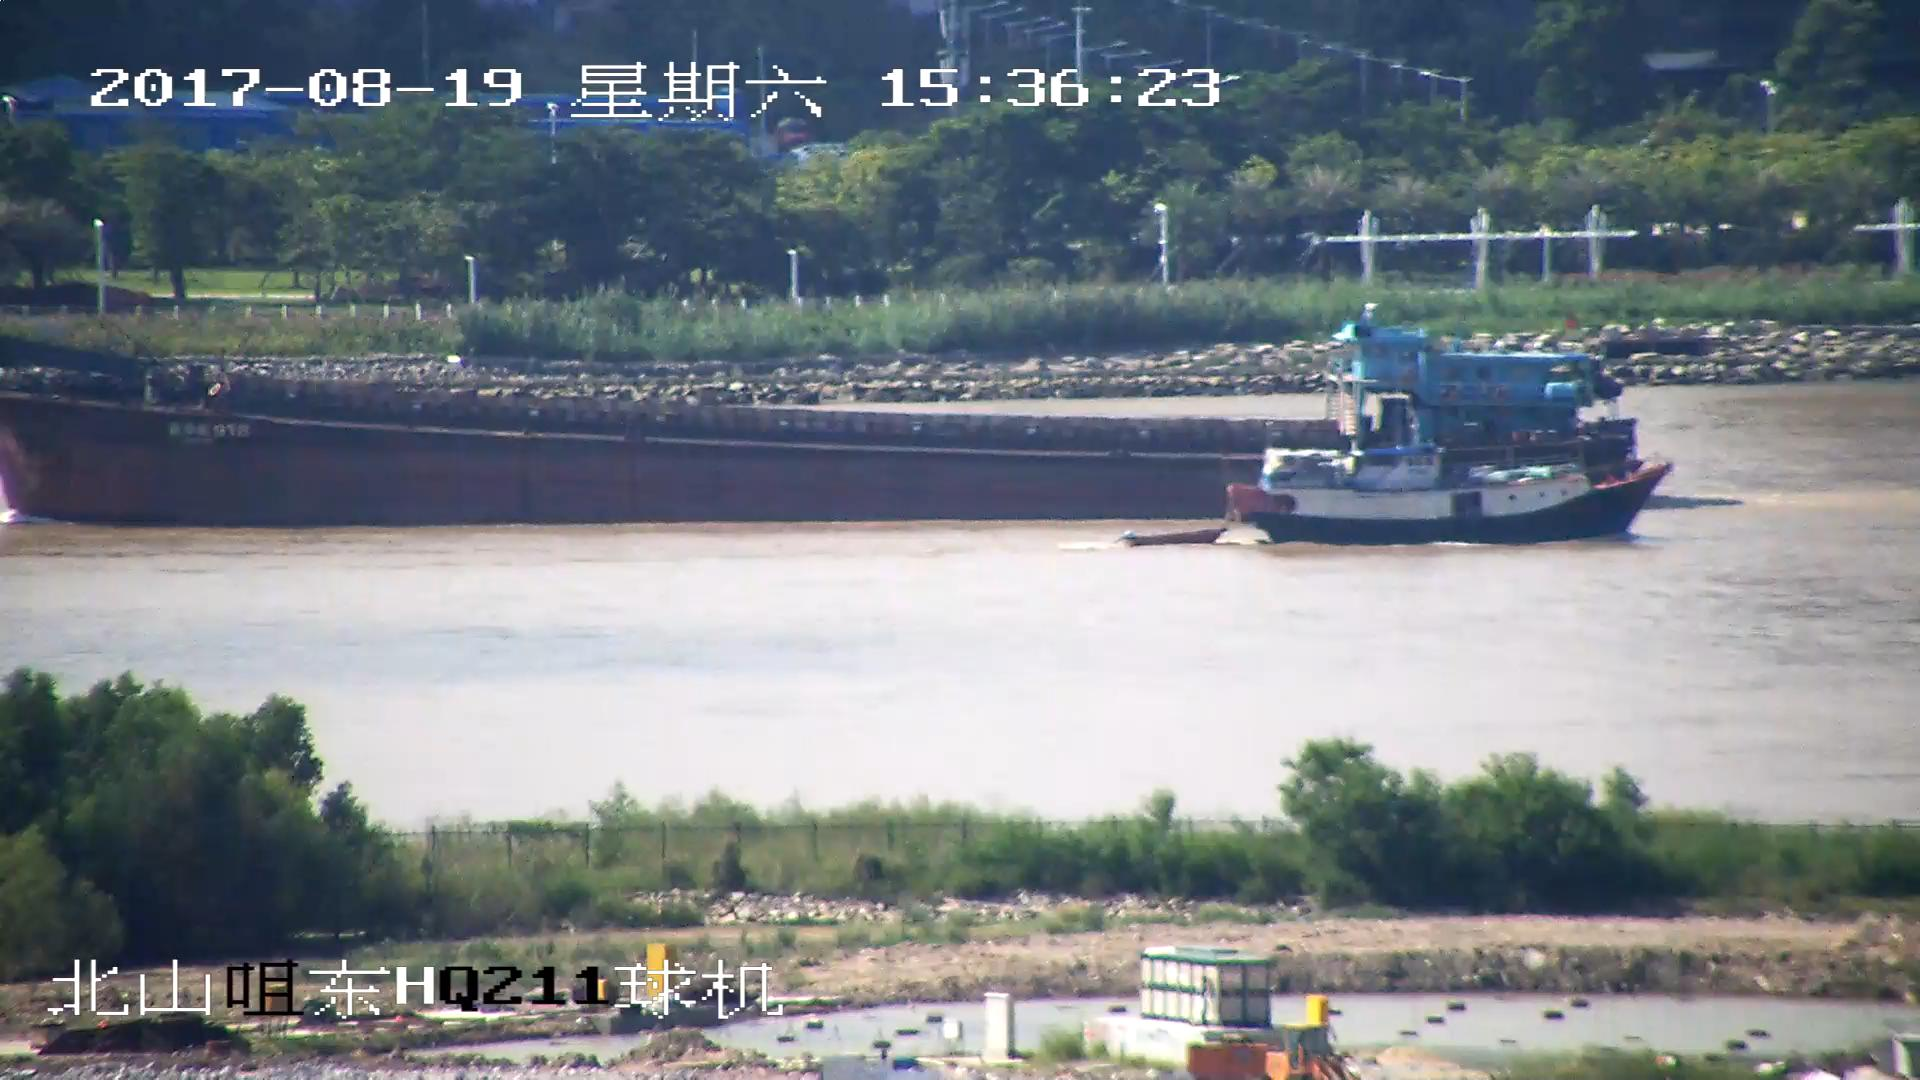bulk cargo carrier: (1, 324, 1659, 528)
fishing boat: (1127, 452, 1671, 552)
